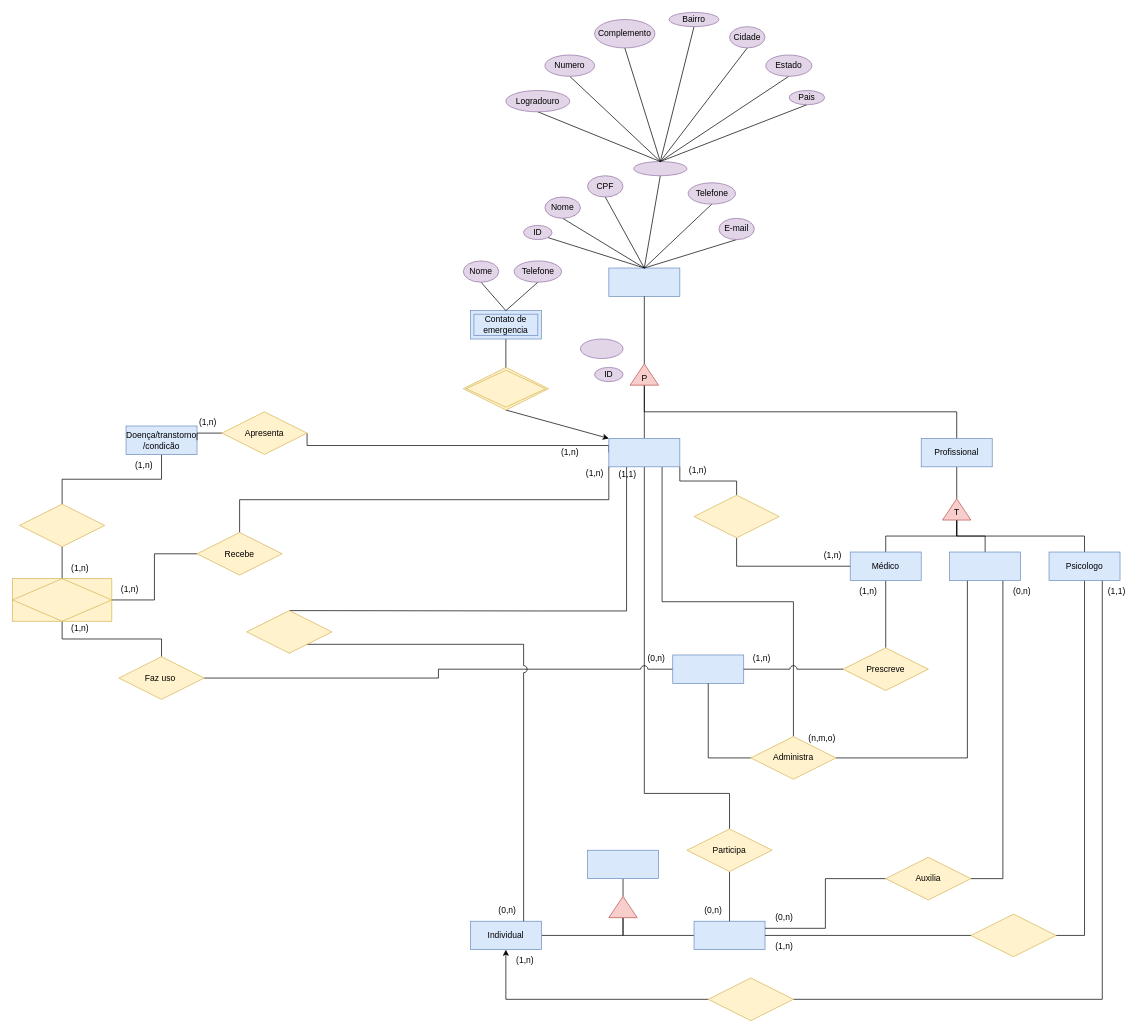
This 1147x1033 diagram has some shape labels left out. The centre of each missing label's shape, as x and y in pixels:
"Consulta" belongs at [736,516].
"Convenio" belongs at [601,348].
"Coordena" belongs at [1013,935].
"Endereco" belongs at [660,168].
"Enfermeiro" belongs at [985,565].
"Faz" belongs at [289,631].
"Grupo" belongs at [729,935].
"Paciente" belongs at [644,452].
"Pessoa" belongs at [644,281].
"Possui" belongs at [62,525].
"Realiza" belongs at [750,999].
"Remédio" belongs at [708,668].
"Tem" belongs at [505,388].
"Terapia" belongs at [623,864].
"Tratamento" belongs at [62,599].
